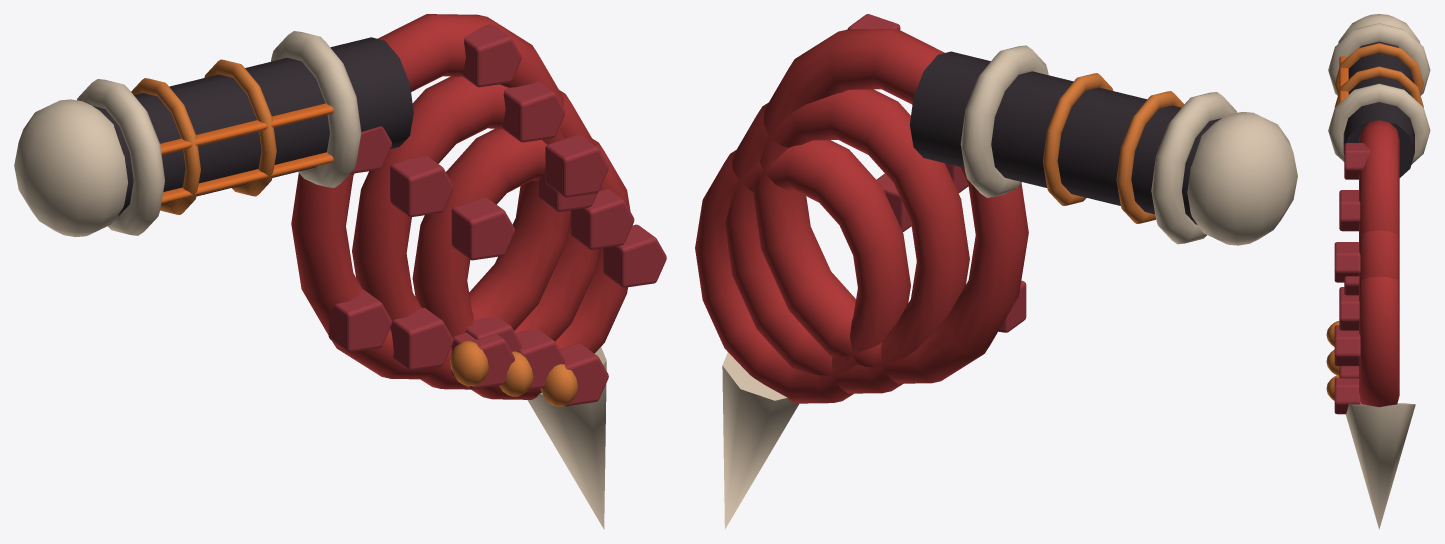
Rendered from wpn_dragontail.glb.
3 views of the same model, side by side, from view 1: azimuth 30°, elevation 25°; view 2: azimuth 150°, elevation 25°; view 3: azimuth 270°, elevation 25° (orthographic). The views are drawn at different scales.
Parts seen in each view (by area): view 1: object 3, torus.001, torus, torus.006, torus.005, box.001, box; view 2: object 3, torus.001, torus, torus.006, torus.005; view 3: object 3, torus.001, torus, torus.005, torus.006, box.001.
Part boxes in pixels (x1,y1,x2,y2): object 3: (14,14,666,529); torus.001: (271,31,361,187); torus: (77,79,164,235); torus.006: (204,59,276,196); torus.005: (131,78,200,214); box.001: (160,103,333,154); box: (161,152,333,203); object 3: (695,14,1297,529); torus.001: (960,45,1048,197); torus: (1151,92,1236,244); torus.006: (1043,73,1113,205); torus.005: (1116,91,1184,223); object 3: (1326,14,1420,529); torus.001: (1328,83,1430,164); torus: (1328,23,1430,95); torus.005: (1334,43,1423,94); torus.006: (1334,66,1423,107); box.001: (1339,56,1348,102).
Bounding box in the file's own units: 0.681 × 0.6049 × 0.16.
